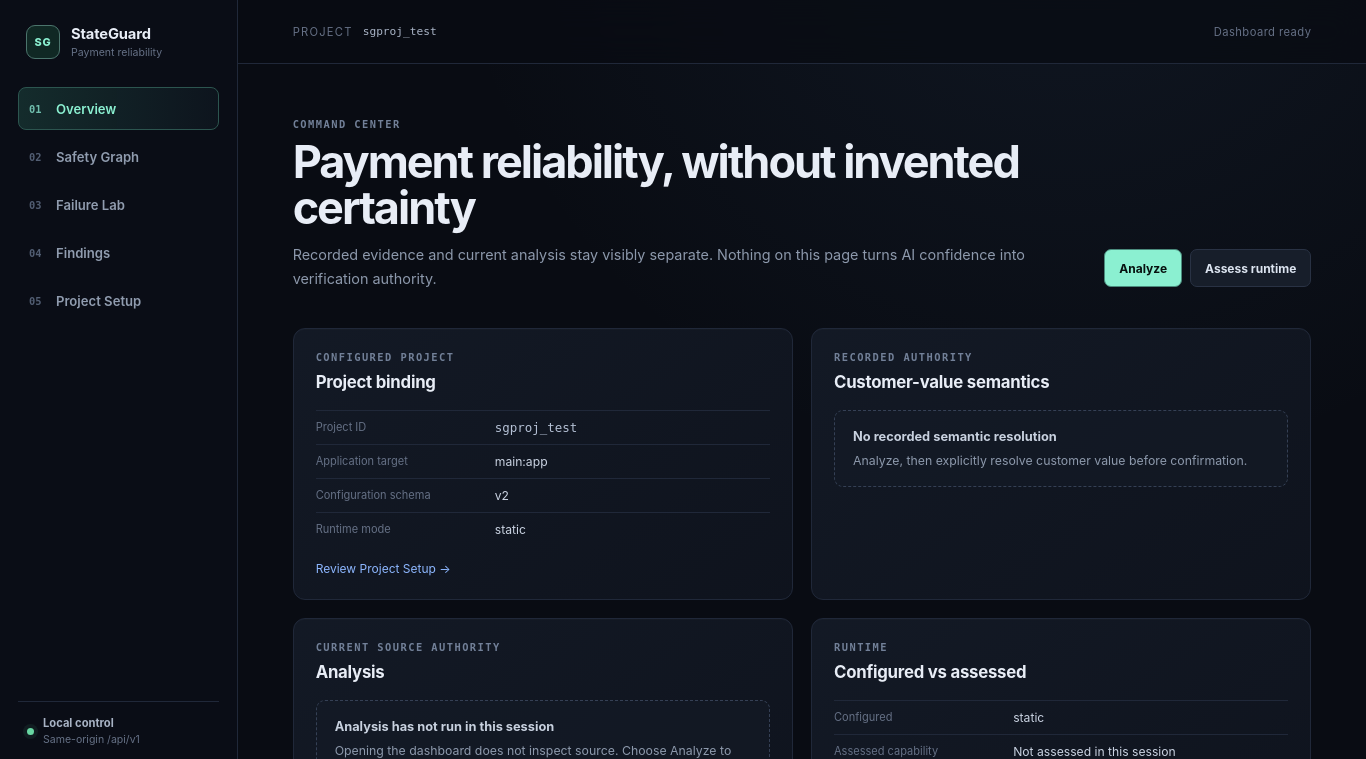
locks every server action while preserving eager client-side navigation
Expected: the text "Dashboard ready" is shown, [1214, 24, 1311, 38]
Click the link "03 Failure Lab".
click(77, 204)  # box [29, 196, 125, 212]
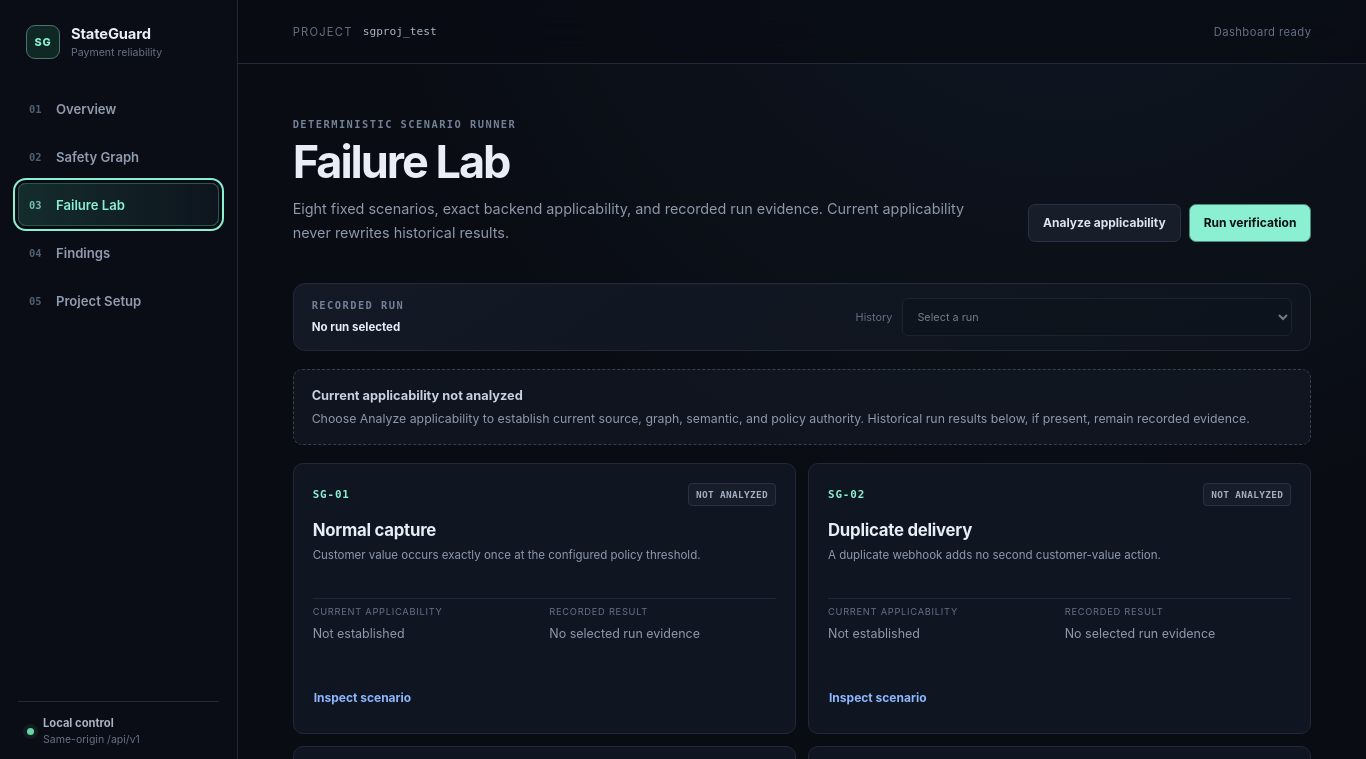
Click the button "Run verification".
click(1250, 222)  # box [1189, 204, 1311, 242]
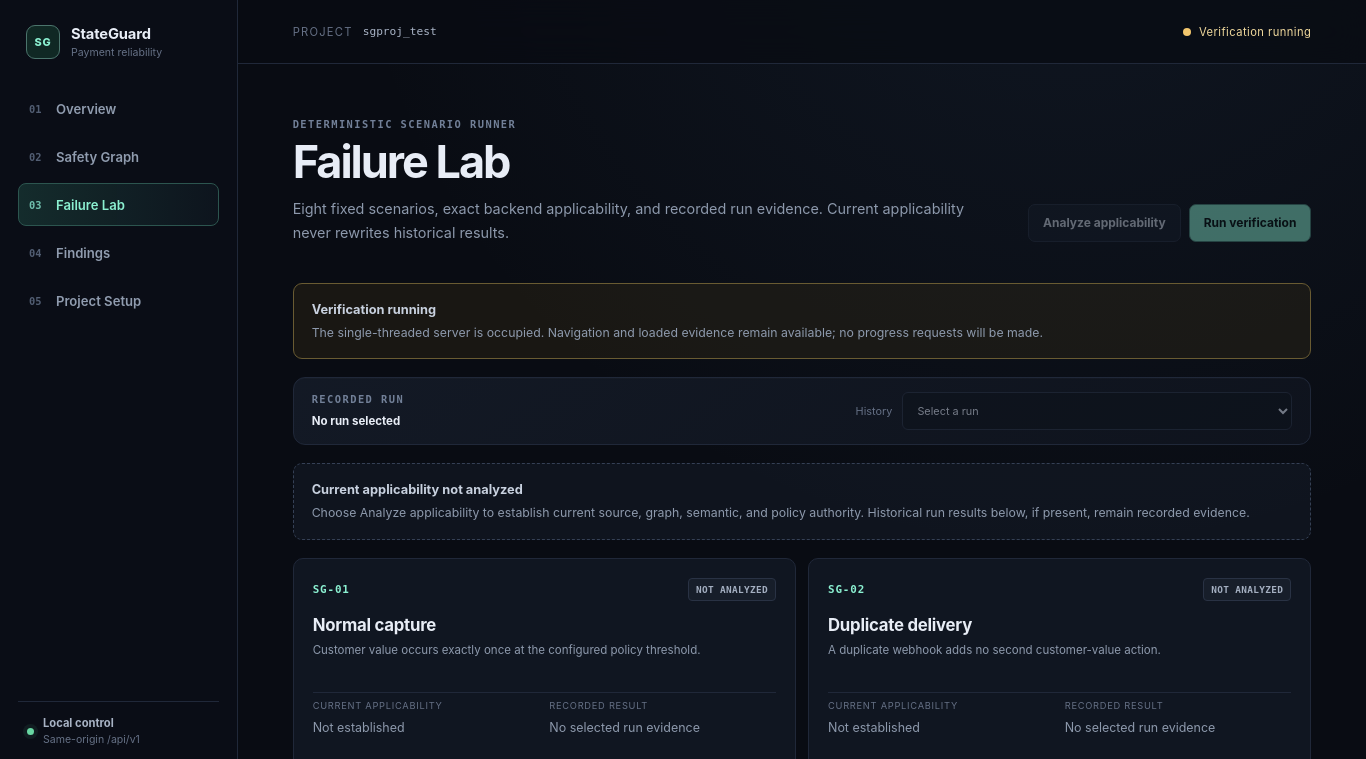
Expected: the text "Verification running" is shown, [1183, 24, 1311, 38]
Click the link "02 Safety Graph".
click(84, 156)  # box [29, 148, 139, 164]
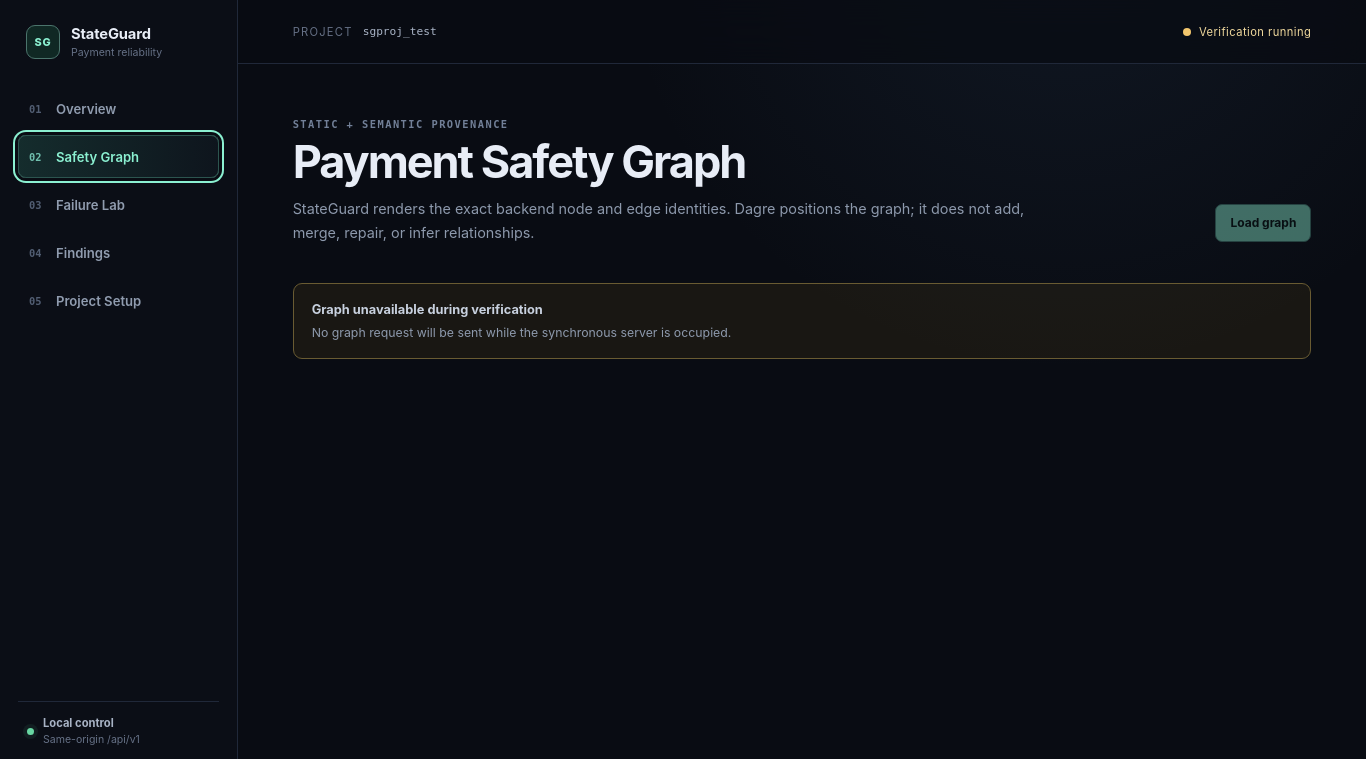
Expected: the heading "Payment Safety Graph" is shown, [293, 134, 745, 189]
Expected: the button "Load graph" is disabled, [1215, 204, 1311, 242]
Click the link "05 Project Setup".
click(85, 300)  # box [29, 292, 141, 308]
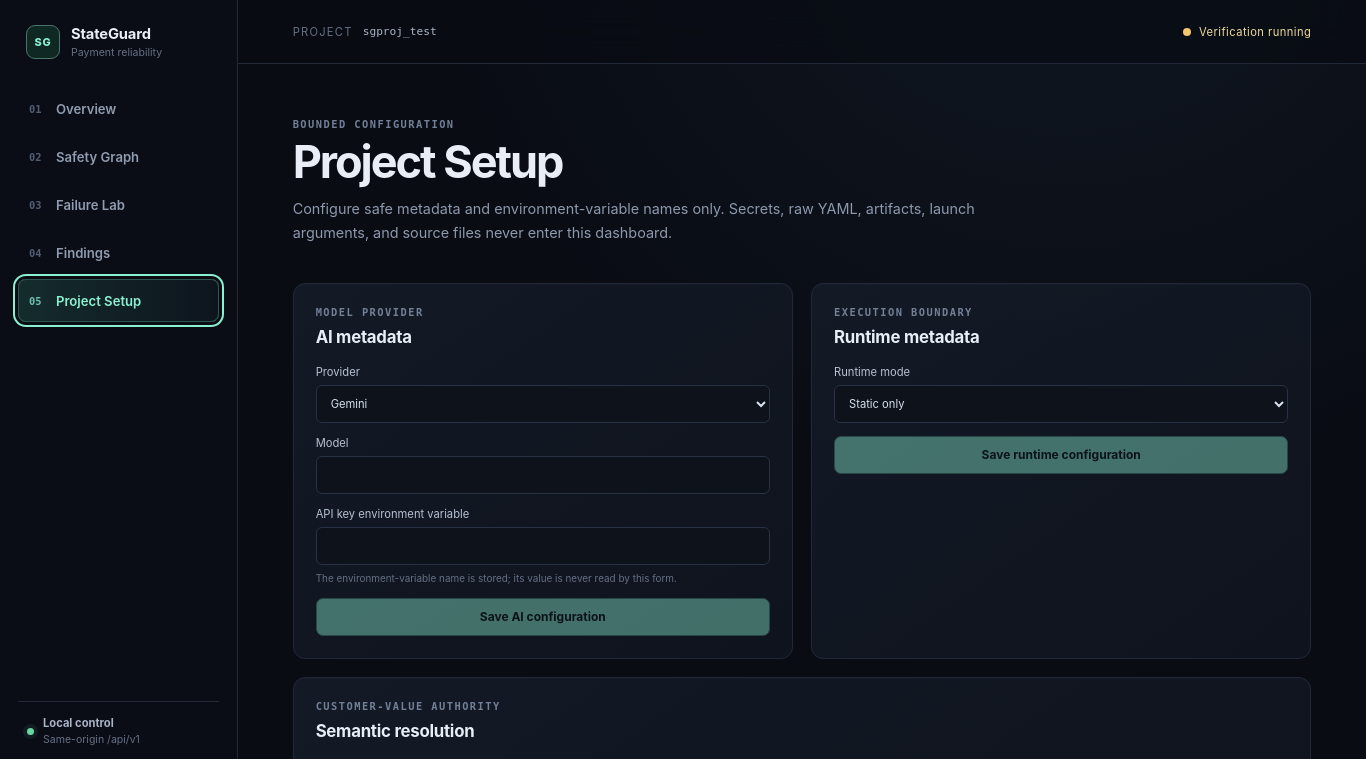
Expected: the heading "Project Setup" is shown, [293, 134, 562, 189]
